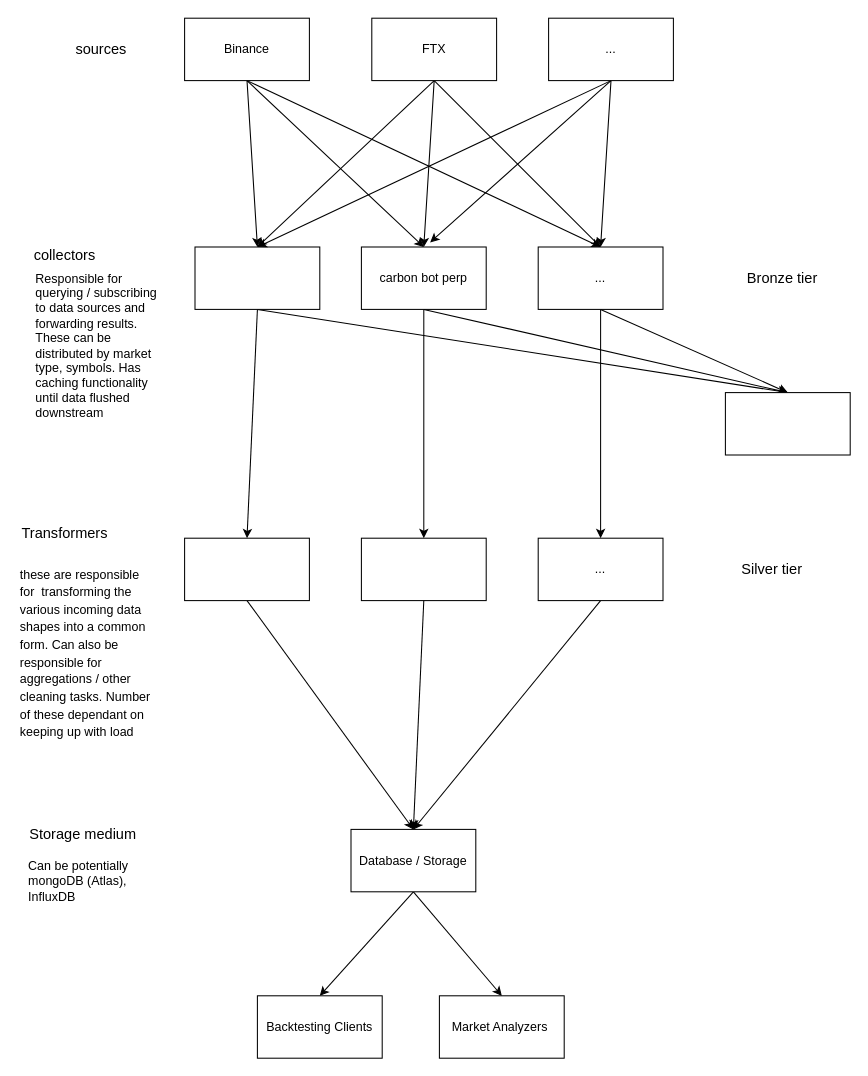
Some shapes in this 868 by 1076 pixel diagram are drawn without their labels. Each missing label, with the centre of its shape:
"Bronze tier mass storage (optional)" goes at (787,423).
"carbon bot spot" goes at (257,277).
"Transformer 1" goes at (246,569).
"Transformer 2" goes at (423,569).
